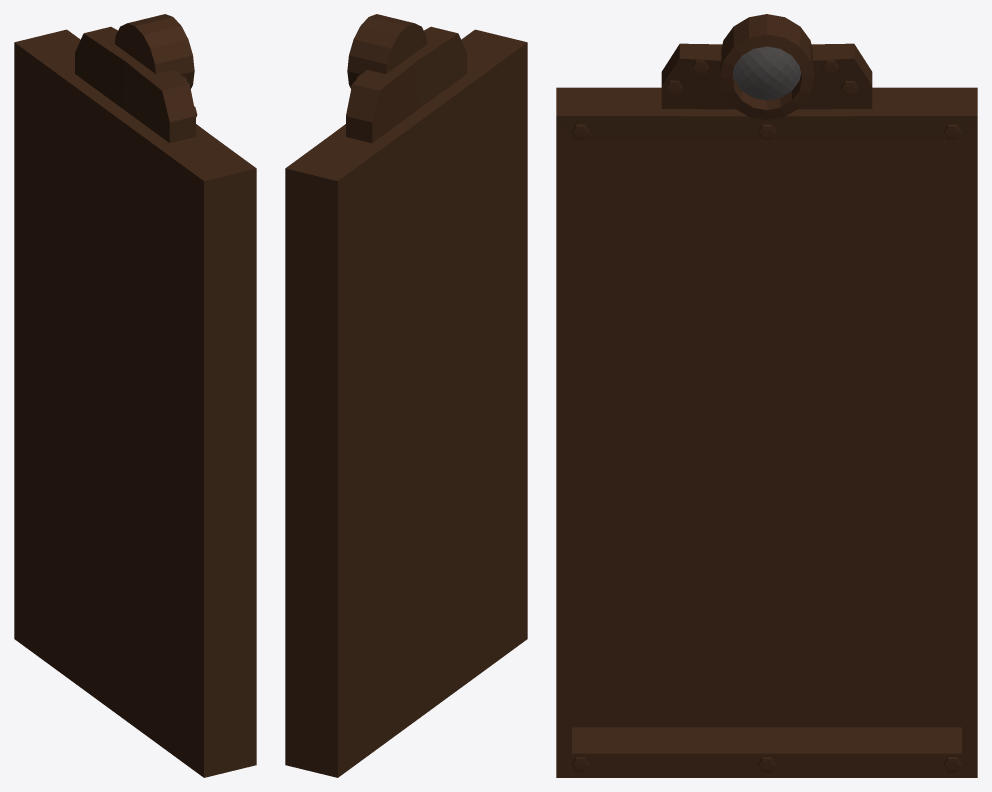
The model's file is EndDoor.fbx.
The picture shows the model from 3 angles, left to right: view 1: azimuth 30°, elevation 25°; view 2: azimuth 150°, elevation 25°; view 3: azimuth 270°, elevation 25°; orthographic projection. The views are drawn at different scales.
Visible parts, largest first — view 1: DoorFrame; view 2: DoorFrame; view 3: DoorFrame, Light.
Boxes of the visible parts, x1,y1,x2,y2 form: DoorFrame: (14,14,256,777); DoorFrame: (285,14,527,777); DoorFrame: (556,14,977,777); Light: (733,46,800,100).
Size of the model in its own units: 85.74 by 840 by 428.
